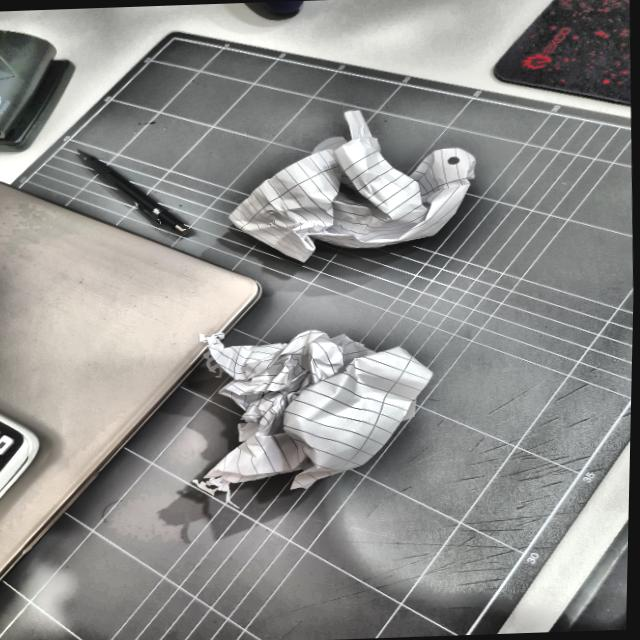Paper: (197, 325, 434, 495), (232, 109, 488, 264)
